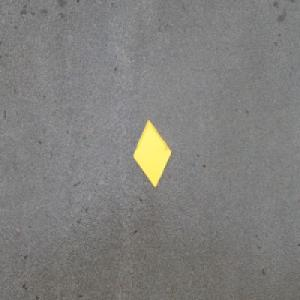PlasticPart: (132, 118, 172, 187)
